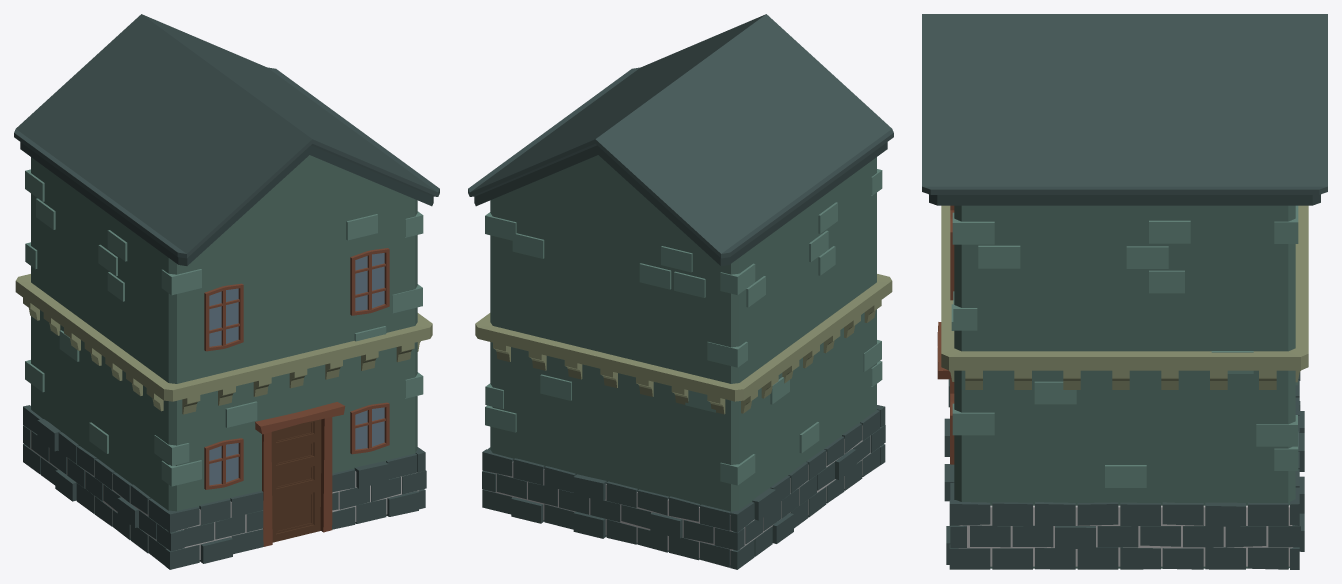
Rendered from 2Story_GableRoof_Mat.gltf.
3 views of the same model, side by side, from view 1: azimuth 30°, elevation 25°; view 2: azimuth 150°, elevation 25°; view 3: azimuth 270°, elevation 25° (orthographic). The views are drawn at different scales.
Parts seen in each view (by area): view 1: o 2Story_GableRoof_Mat_Cube.002; view 2: o 2Story_GableRoof_Mat_Cube.002; view 3: o 2Story_GableRoof_Mat_Cube.002.
Part boxes in pixels (left/top/right/bottom): o 2Story_GableRoof_Mat_Cube.002: left=14, top=14, right=439, bottom=569; o 2Story_GableRoof_Mat_Cube.002: left=468, top=14, right=893, bottom=569; o 2Story_GableRoof_Mat_Cube.002: left=922, top=14, right=1327, bottom=569.
Bounding box in the file's own units: 2.16 × 3.13 × 2.38.
